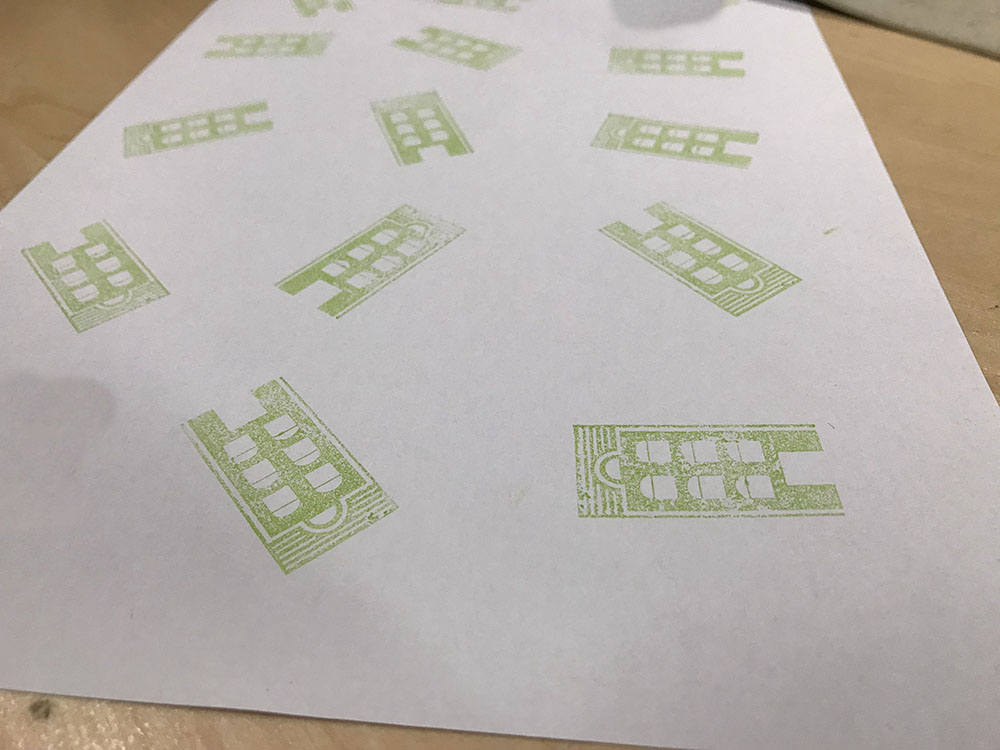build: (166, 365, 421, 593), (556, 403, 864, 540), (583, 186, 817, 334), (266, 184, 480, 332), (12, 212, 182, 358), (567, 101, 769, 179), (357, 73, 485, 187), (112, 91, 282, 167), (587, 31, 766, 91), (385, 20, 530, 79), (200, 24, 344, 73)
